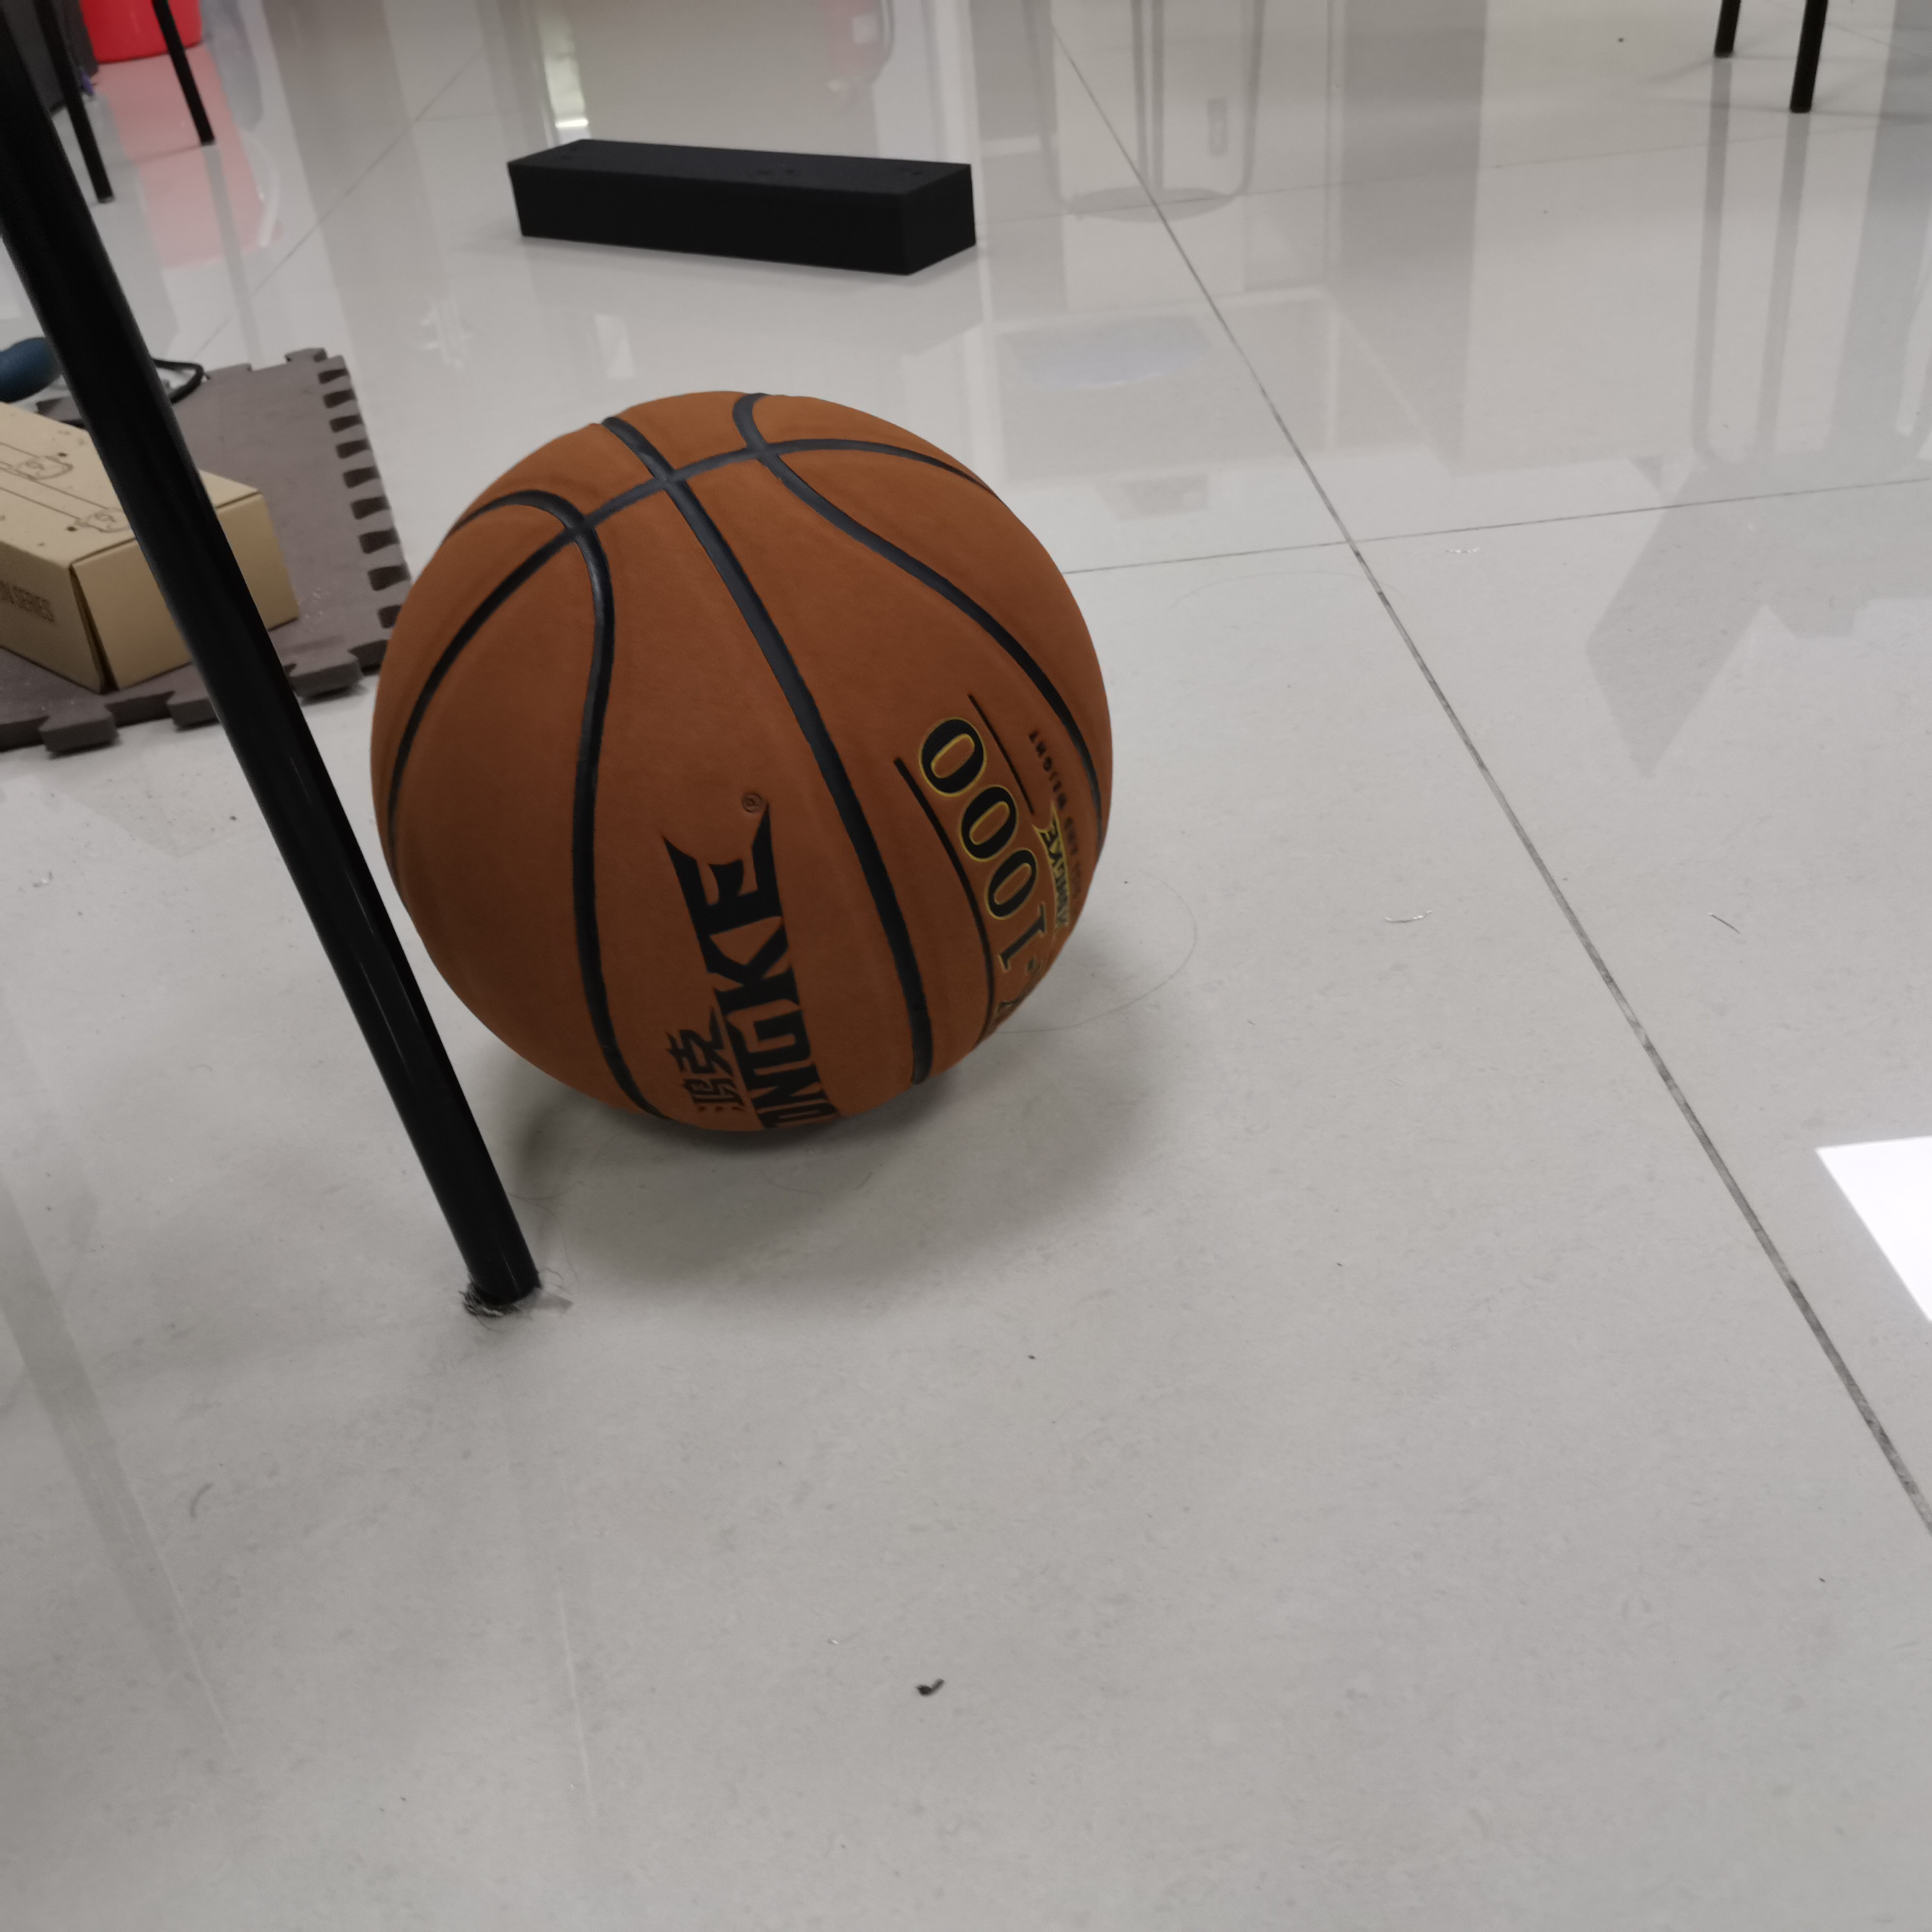basketball: (373, 386, 1108, 1154)
